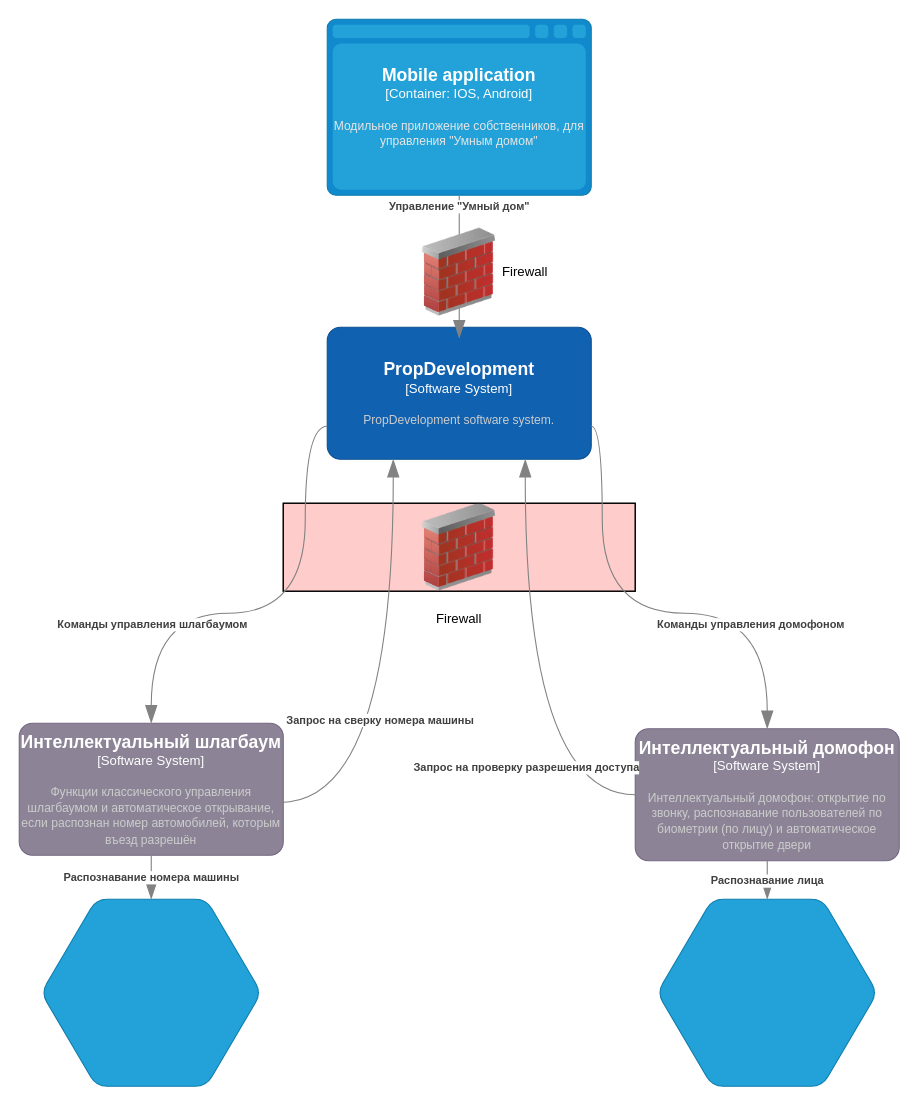
Some shapes in this 919 by 1106 pixel diagram are drawn without their labels. The shapes that lost their labels are listed below. From the top down, each one's centre as x and y in pixels, then its label:
the point at 150,992: ML [Container: ] Модель обученная распознавать номера машин
the point at 766,992: ML [Container: ] Модель обученная распознавать лица людей
